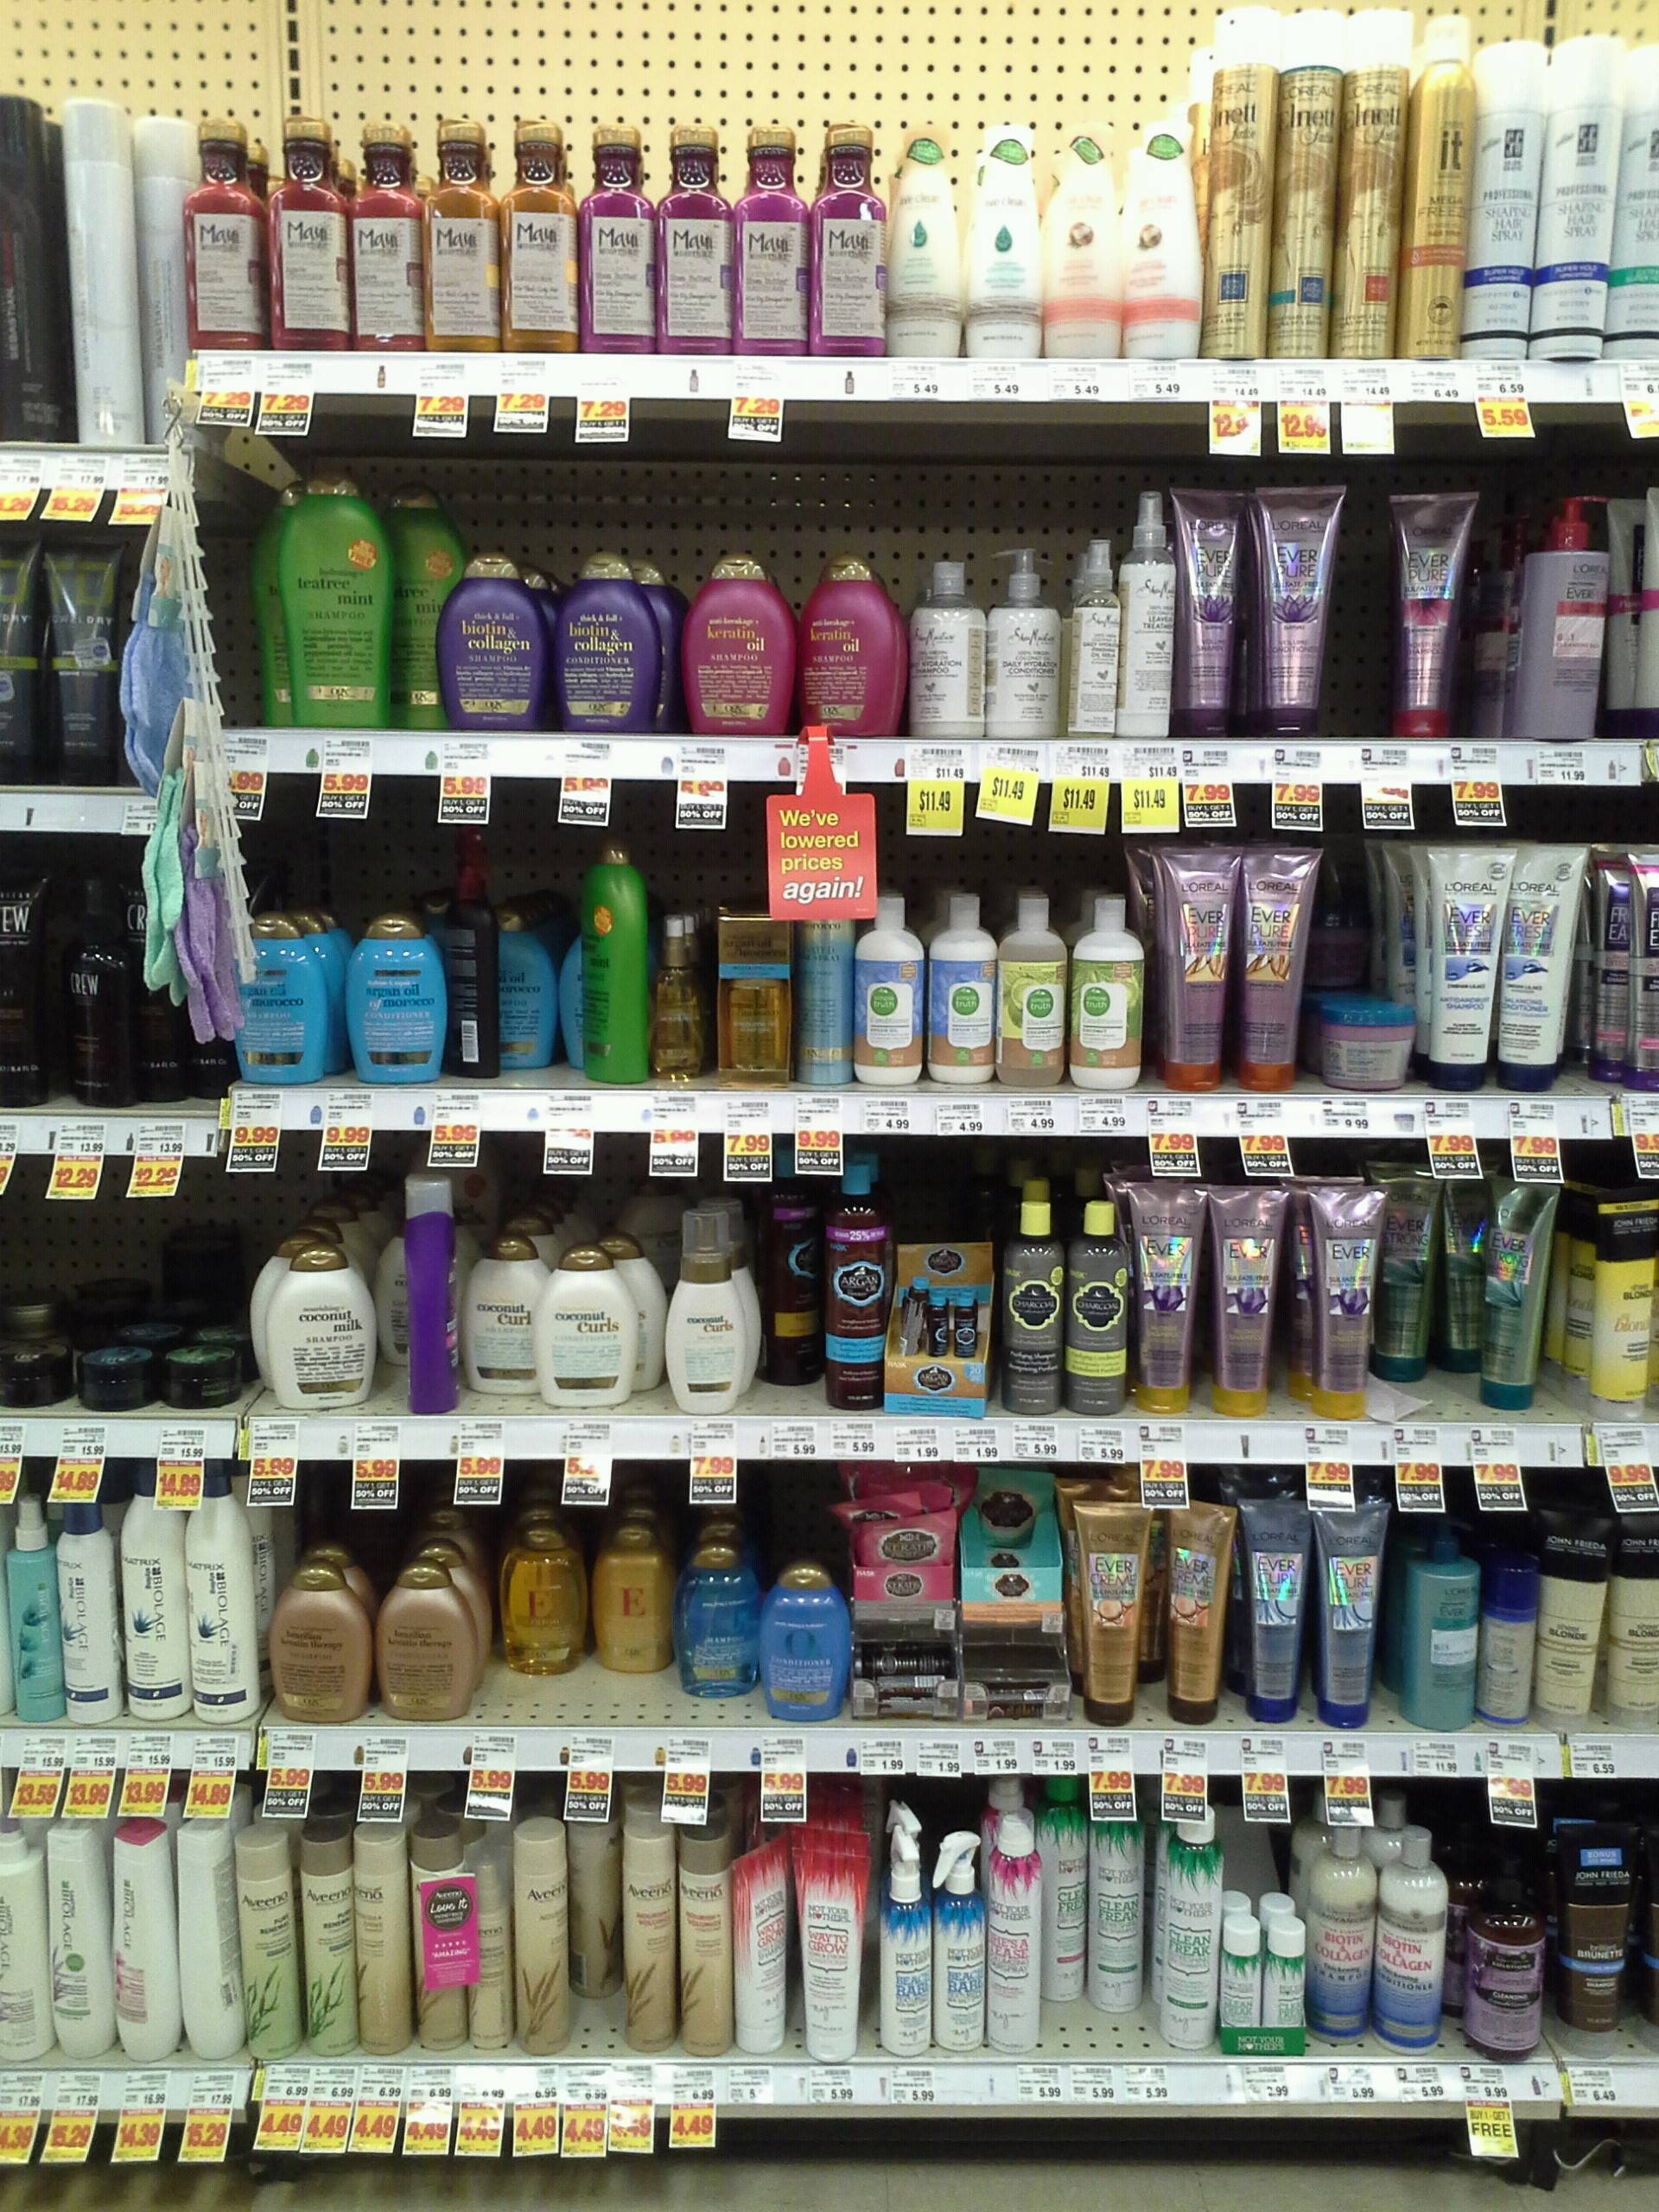Misplacement: (568, 1811, 622, 2050)
